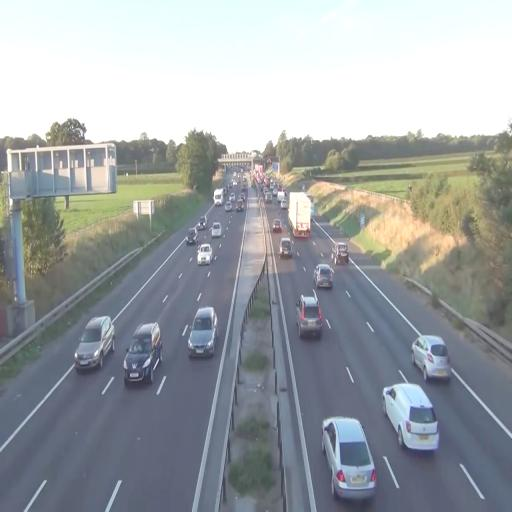vehicle: (321, 416, 377, 502), (382, 380, 440, 453), (123, 321, 162, 385), (74, 315, 115, 372), (412, 333, 451, 382), (186, 307, 218, 359), (296, 294, 326, 340), (288, 192, 312, 240), (289, 192, 312, 240), (314, 262, 334, 288), (330, 239, 349, 266), (198, 243, 212, 264), (279, 238, 292, 257), (209, 221, 223, 238), (186, 231, 196, 245)
